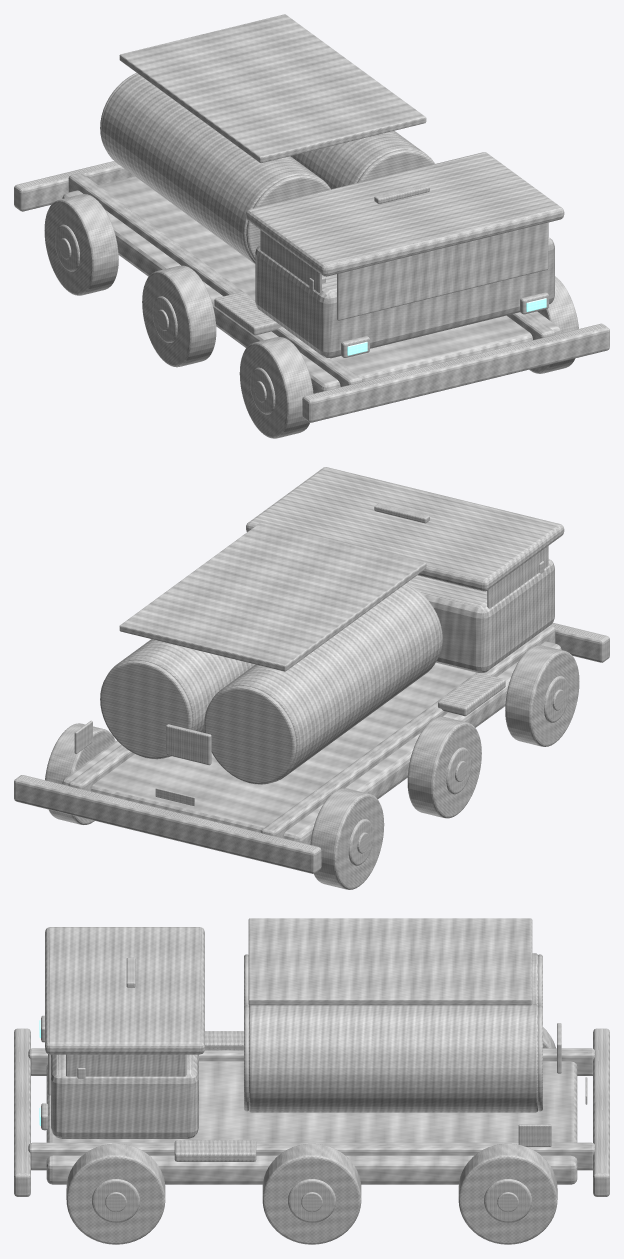
Rendered from truck_variant_b.glb.
The picture shows the model from 3 angles, top to bottom: view 1: azimuth 30°, elevation 25°; view 2: azimuth 150°, elevation 25°; view 3: azimuth 270°, elevation 25°; orthographic projection.
Parts seen in each view (by area): view 1: Tank service walkway, Panoramic cab roof, Fluid tank, Heavy ladder frame.001, Cab lower shell, Panoramic windshield, Front bumper.001, Heavy all-terrain tire.010, Heavy all-terrain tire.008, Heavy all-terrain tire.006, Longitudinal frame rail.002, Fluid tank.001 (+10 smaller); view 2: Tank service walkway, Heavy ladder frame.001, Panoramic cab roof, Fluid tank, Rear bumper.001, Cab lower shell, Tank rear cap, Tank rear cap.001, Heavy all-terrain tire.008, Heavy all-terrain tire.006, Heavy all-terrain tire.010, Longitudinal frame rail.002 (+10 smaller); view 3: Fluid tank.001, Tank service walkway, Heavy ladder frame.001, Panoramic cab roof, Cab lower shell, Heavy all-terrain tire.007, Heavy all-terrain tire.011, Heavy all-terrain tire.009, Longitudinal frame rail.003, Front bumper.001, Rear bumper.001, Side glass.001 (+9 smaller).
Boxes of the visible parts, <box> form: Tank service walkway: <box>119,14,426,163</box>; Panoramic cab roof: <box>246,152,564,276</box>; Fluid tank: <box>101,74,330,263</box>; Heavy ladder frame.001: <box>62,176,561,393</box>; Cab lower shell: <box>255,237,554,358</box>; Panoramic windshield: <box>337,222,548,320</box>; Front bumper.001: <box>302,323,609,422</box>; Heavy all-terrain tire.010: <box>44,194,118,295</box>; Heavy all-terrain tire.008: <box>142,265,216,367</box>; Heavy all-terrain tire.006: <box>239,337,313,438</box>; Longitudinal frame rail.002: <box>68,173,362,386</box>; Fluid tank.001: <box>290,130,434,189</box>; Tank service walkway: <box>119,522,426,671</box>; Heavy ladder frame.001: <box>62,641,561,844</box>; Panoramic cab roof: <box>246,467,564,591</box>; Fluid tank: <box>212,584,441,781</box>; Rear bumper.001: <box>14,775,321,873</box>; Cab lower shell: <box>406,559,554,672</box>; Tank rear cap: <box>204,685,296,784</box>; Tank rear cap.001: <box>100,660,192,759</box>; Heavy all-terrain tire.008: <box>407,716,481,818</box>; Heavy all-terrain tire.006: <box>505,645,579,746</box>; Heavy all-terrain tire.010: <box>310,788,384,889</box>; Longitudinal frame rail.002: <box>261,626,555,838</box>; Fluid tank.001: <box>249,1004,537,1112</box>; Tank service walkway: <box>248,918,532,1005</box>; Heavy ladder frame.001: <box>46,1061,577,1184</box>; Panoramic cab roof: <box>45,927,204,1054</box>; Cab lower shell: <box>51,1054,198,1138</box>; Heavy all-terrain tire.007: <box>66,1143,165,1244</box>; Heavy all-terrain tire.011: <box>458,1143,557,1244</box>; Heavy all-terrain tire.009: <box>262,1143,361,1244</box>; Longitudinal frame rail.003: <box>28,1142,595,1170</box>; Front bumper.001: <box>14,1028,30,1196</box>; Rear bumper.001: <box>593,1028,609,1196</box>; Side glass.001: <box>66,1054,186,1076</box>.
Size of what is drawn, in the model's own units: 5.8 by 3.94 by 9.88.
8 materials, 8 textured.
